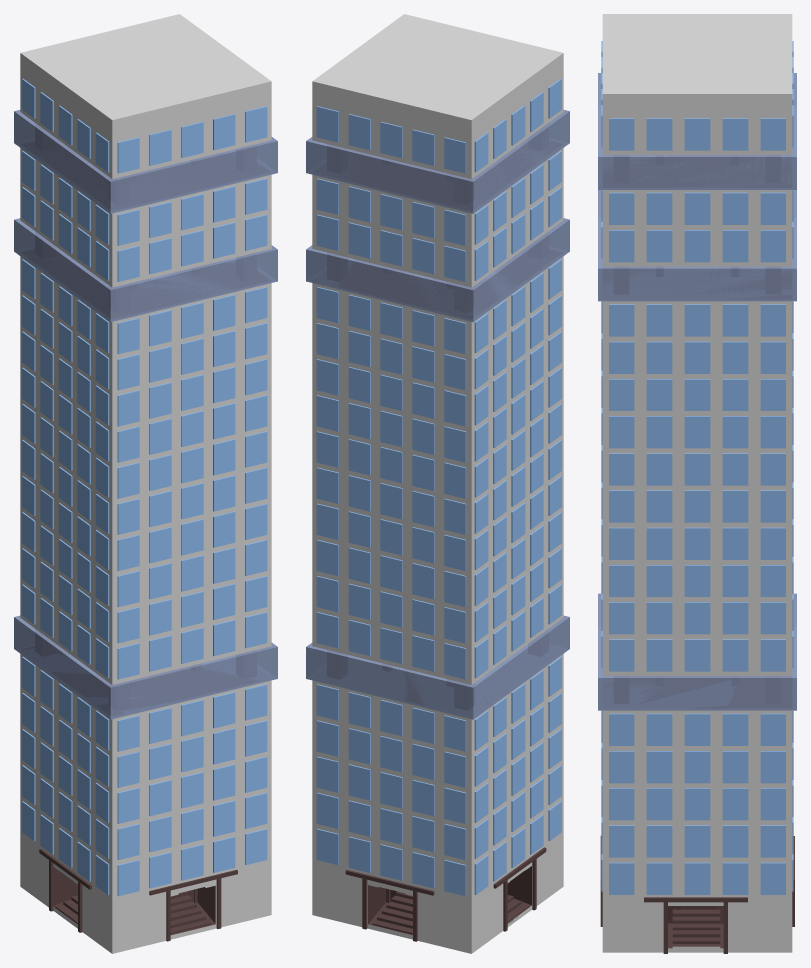
Rendered from jumpbuilding.fbx.
3 renders of one model, left to right at view 1: azimuth 30°, elevation 25°; view 2: azimuth 150°, elevation 25°; view 3: azimuth 270°, elevation 25°, orthographic. The views are drawn at different scales.
Visible parts, largest first — view 1: building; view 2: building; view 3: building.
Part boxes in pixels (x1=…): building: x1=14, y1=14, x2=277, y2=953; building: x1=306, y1=14, x2=569, y2=953; building: x1=598, y1=14, x2=796, y2=953.
Bounding box in the file's own units: 630 × 3000 × 630.
